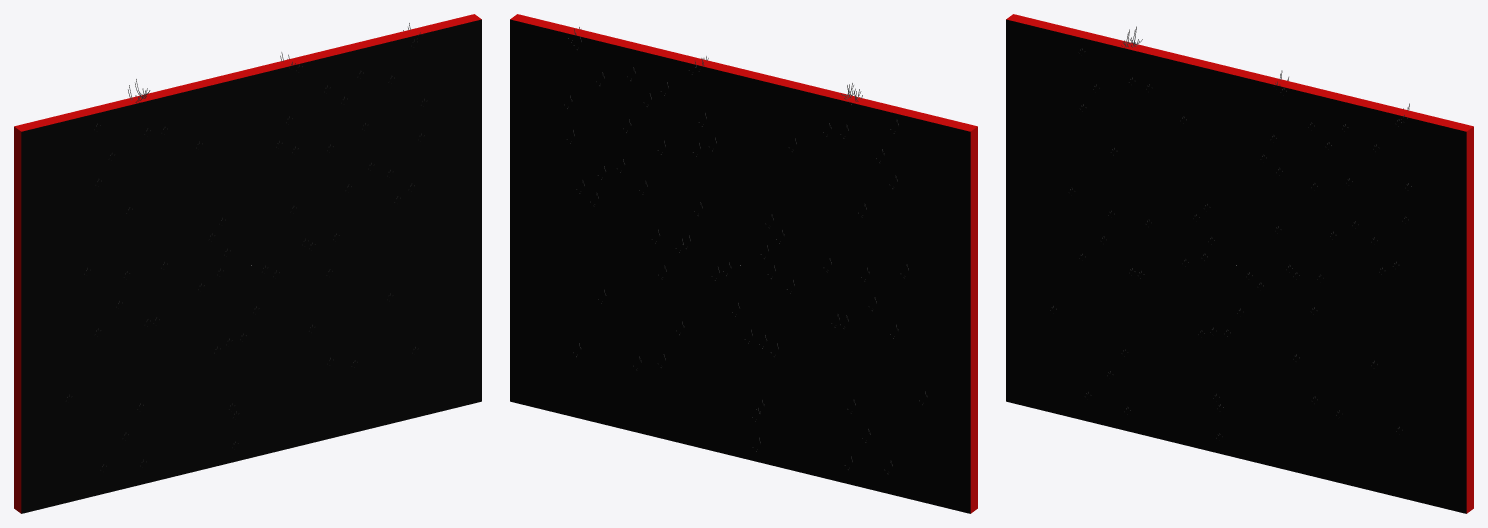
File: bridge_thing.glb
3 views of the same model, side by side, from view 1: azimuth 30°, elevation 25°; view 2: azimuth 150°, elevation 25°; view 3: azimuth 330°, elevation 25° (orthographic).
Parts seen in each view (by area): view 1: interior wall, cables; view 2: interior wall, cables; view 3: interior wall, cables.
Part boxes in pixels (x1,y1,x2,y2): interior wall: (14,14,481,513); cables: (66,23,427,470); interior wall: (510,14,977,513); cables: (564,27,927,474); interior wall: (1006,14,1473,513); cables: (1050,26,1411,438).
Bounding box in the file's own units: 1005 × 833 × 32.12.
Materials: 3 (2 with a texture image).
